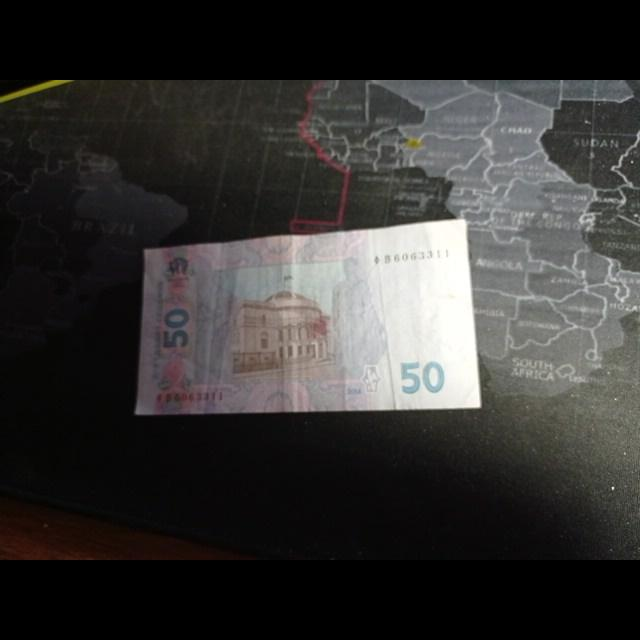50uah: (135, 216, 482, 414)
